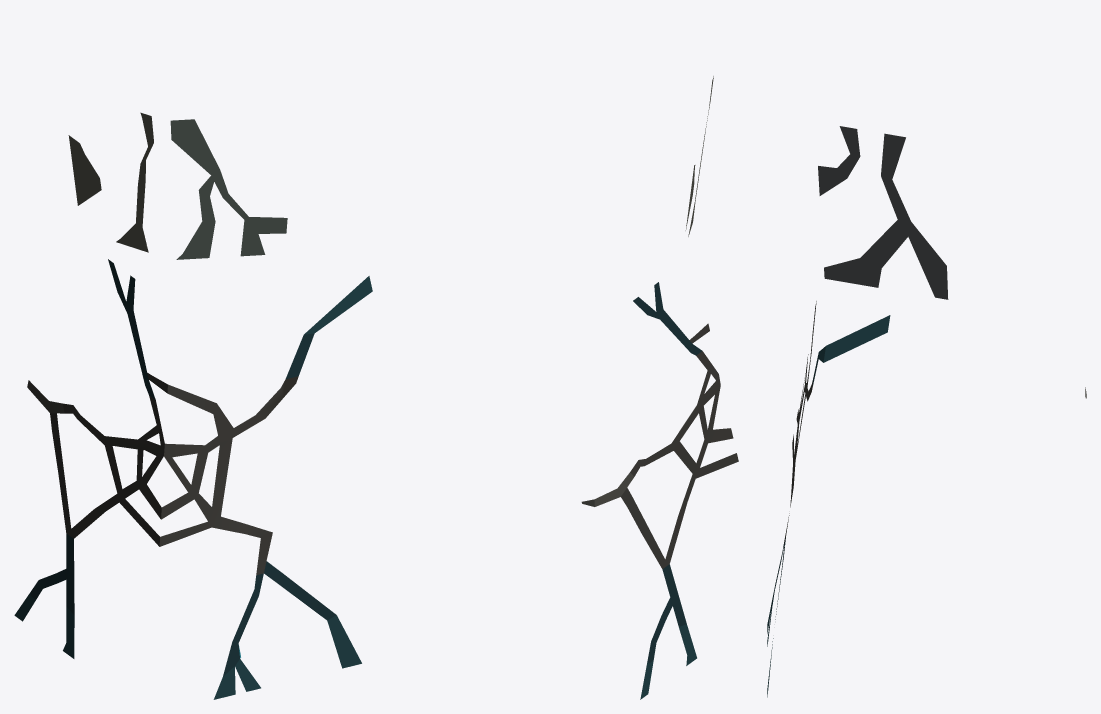
File: lifeGuardCracks.glb
The picture shows the model from 3 angles, left to right: view 1: azimuth 30°, elevation 25°; view 2: azimuth 150°, elevation 25°; view 3: azimuth 270°, elevation 25°; orthographic projection. The views are drawn at different scales.
Visible parts, largest first — view 1: lifeGuardCracks; view 2: lifeGuardCracks; view 3: lifeGuardCracks.
Part boxes in pixels (<box>): lifeGuardCracks: <box>14,112,372,699</box>; lifeGuardCracks: <box>581,76,738,699</box>; lifeGuardCracks: <box>767,126,1086,697</box>.
Bounding box in the file's own units: 1.33 × 2.53 × 1.21.
